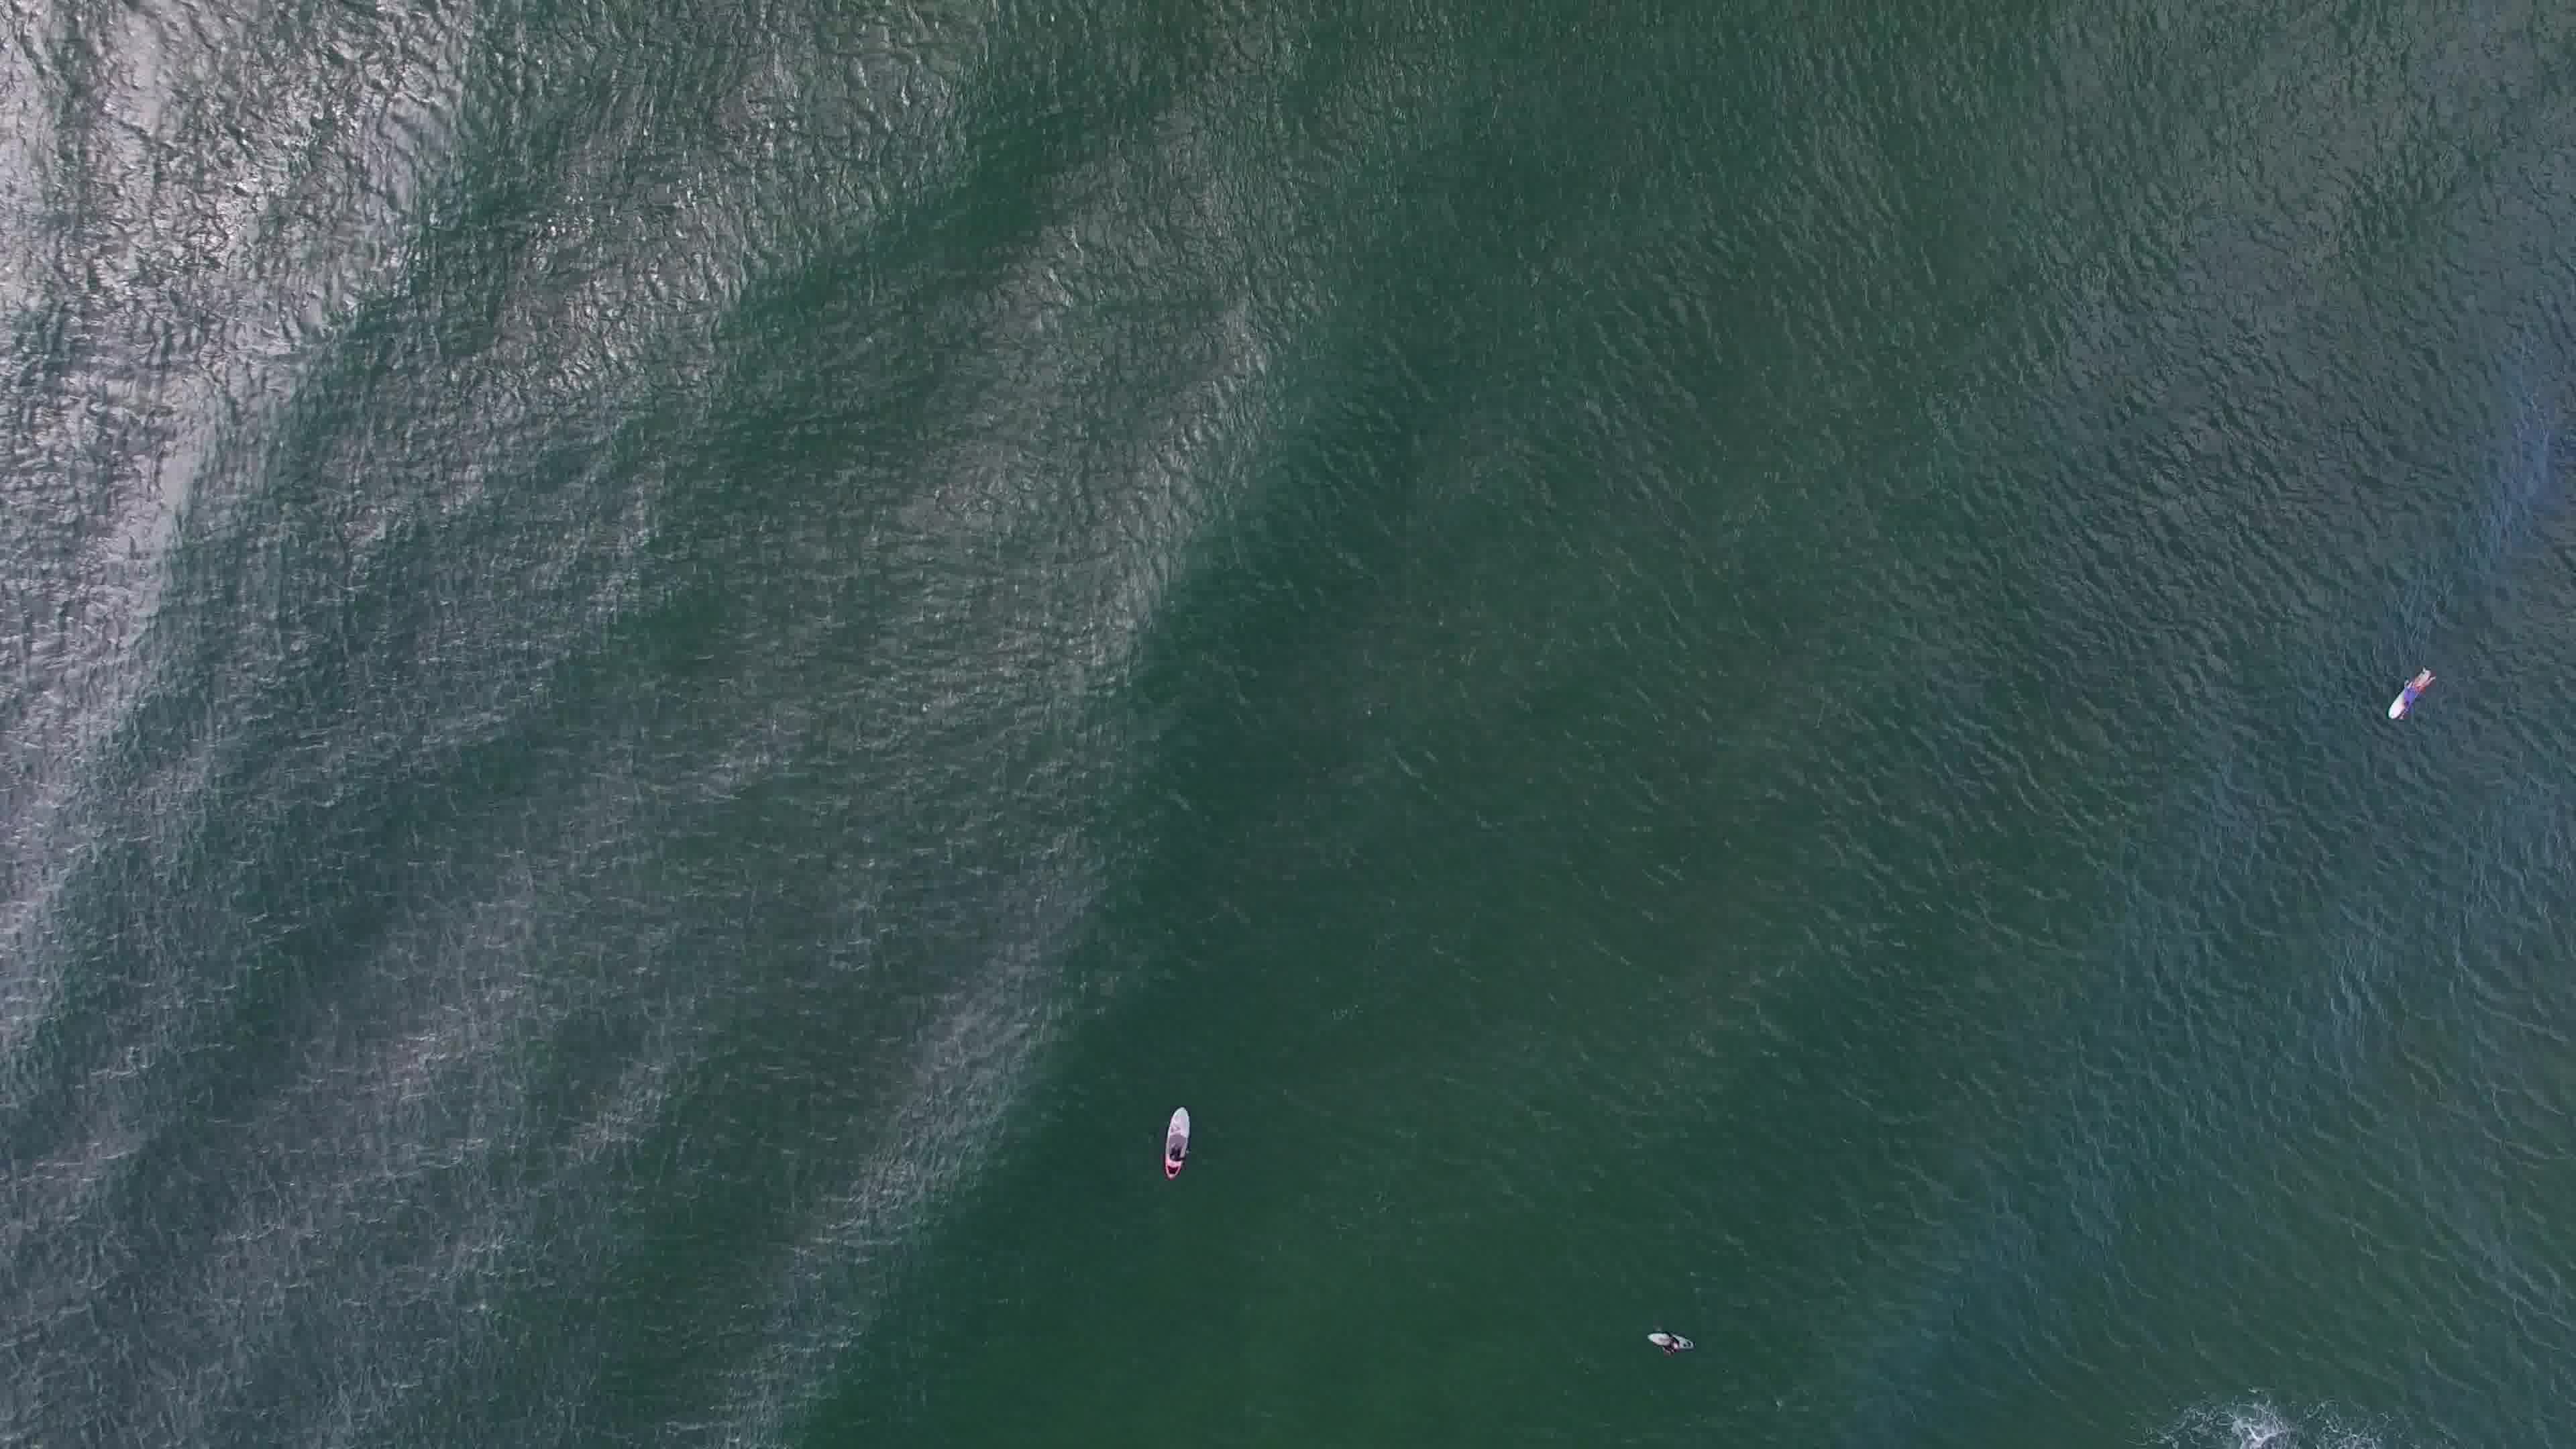surfer: (2380, 658, 2445, 727), (1155, 1099, 1201, 1185), (1644, 1327, 1704, 1361)
